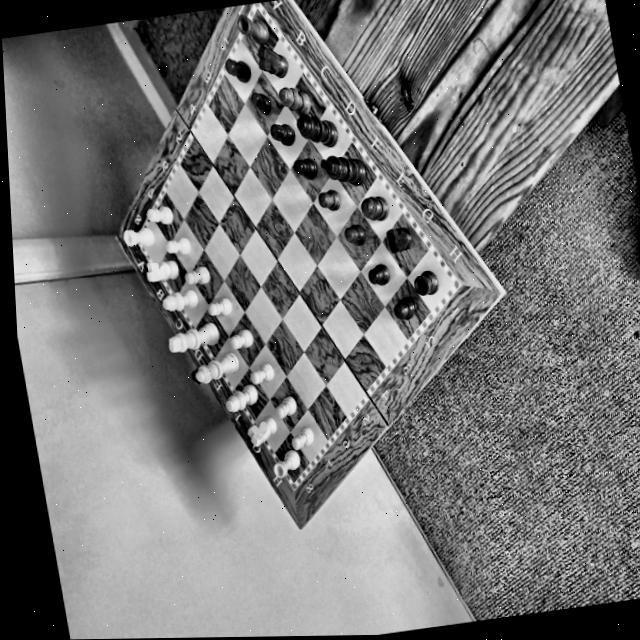black-bishop: (276, 79, 314, 117), (357, 191, 392, 224)
black-king: (318, 147, 372, 190)
black-knight: (252, 37, 292, 83), (382, 223, 416, 251)
black-pawn: (222, 52, 253, 87), (268, 116, 296, 149), (364, 259, 392, 289), (290, 155, 321, 182), (247, 88, 274, 118), (389, 295, 419, 322), (314, 187, 342, 213), (342, 222, 368, 249)
black-queen: (292, 109, 342, 149)
black-rook: (235, 9, 273, 48), (407, 266, 444, 301)
white-bishop: (221, 380, 262, 415), (161, 287, 198, 313)
white-king: (164, 319, 220, 354)
white-knight: (244, 414, 283, 447), (141, 256, 182, 285)
white-pawn: (285, 423, 319, 452), (247, 360, 278, 388), (227, 324, 256, 352), (204, 294, 236, 317), (147, 202, 175, 228), (271, 395, 300, 420), (163, 235, 192, 256), (183, 266, 211, 287)
white-queen: (191, 350, 242, 385)
white-rook: (269, 446, 304, 479), (121, 224, 155, 249)
